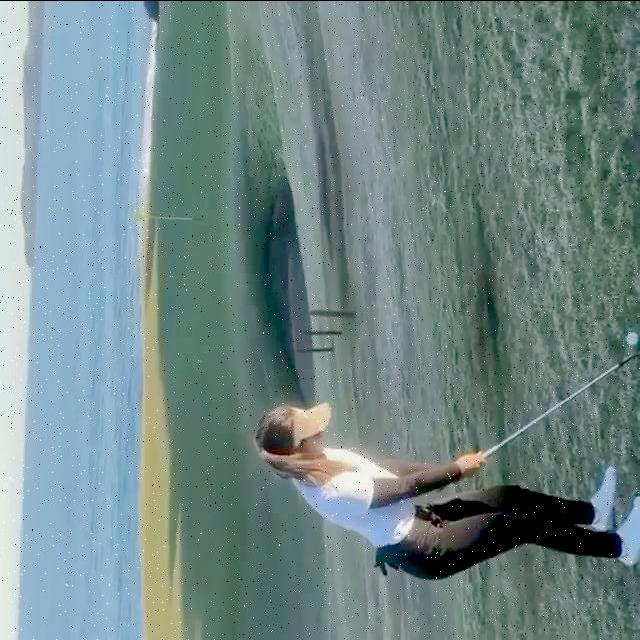golf ball: (626, 334, 638, 347)
golf club-handle: (478, 334, 640, 462)
